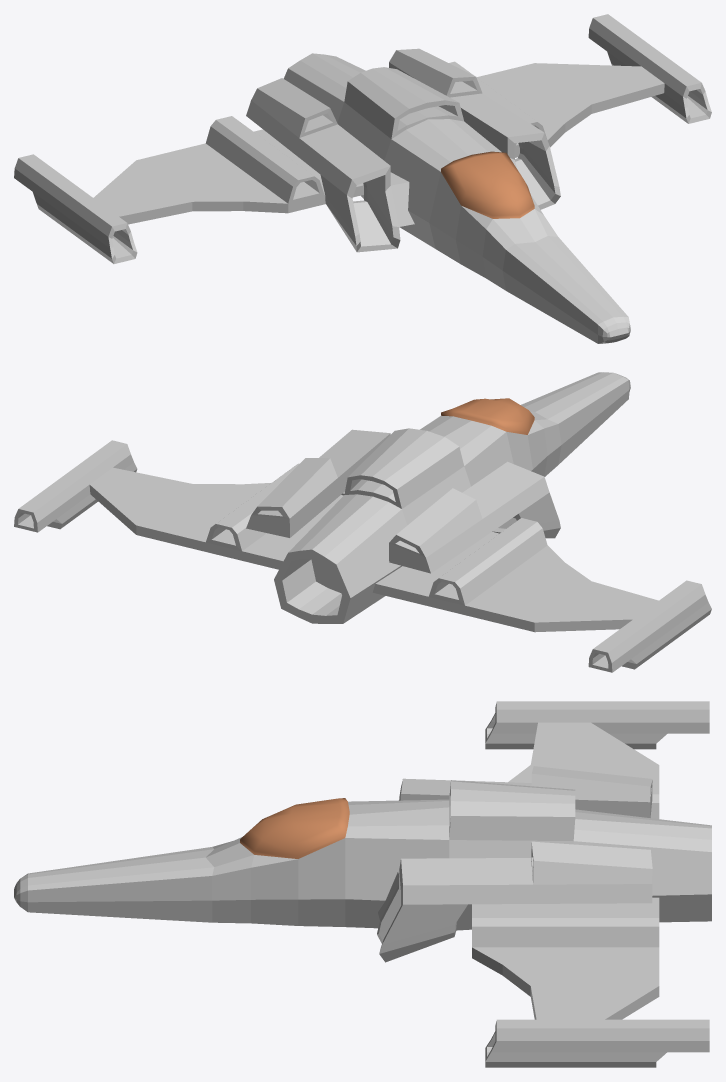
The model's file is x_battleship.glb.
3 views of the same model, one above another, from view 1: azimuth 30°, elevation 25°; view 2: azimuth 150°, elevation 25°; view 3: azimuth 270°, elevation 25° (orthographic). The views are drawn at different scales.
Visible parts, largest first — view 1: Spaceship3; view 2: Spaceship3; view 3: Spaceship3.
Boxes of the visible parts, left/top/right/bottom form: Spaceship3: left=14, top=14, right=711, bottom=343; Spaceship3: left=14, top=372, right=711, bottom=672; Spaceship3: left=14, top=701, right=711, bottom=1067.
Bounding box in the file's own units: 10.38 × 1.86 × 9.21.
